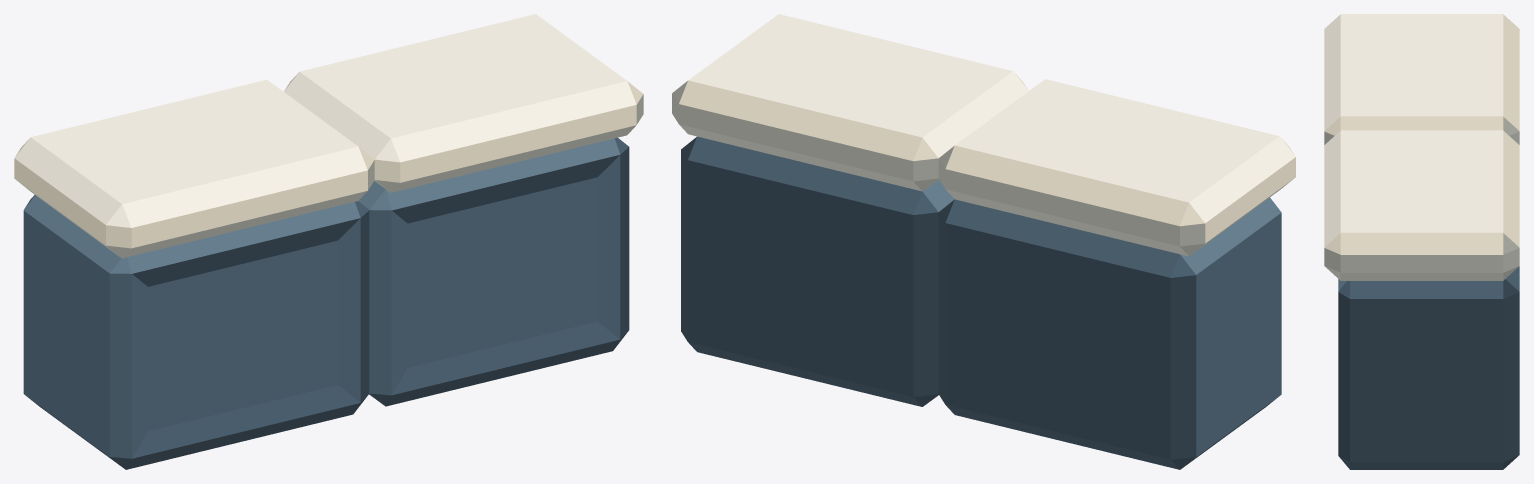
File: Terrain_TopRun2LR.gltf
3 views of the same model, side by side, from view 1: azimuth 30°, elevation 25°; view 2: azimuth 150°, elevation 25°; view 3: azimuth 270°, elevation 25° (orthographic). The views are drawn at different scales.
Parts seen in each view (by area): view 1: Terrain_TopRun2LR_baked; view 2: Terrain_TopRun2LR_baked; view 3: Terrain_TopRun2LR_baked.
Boxes of the visible parts, x1,y1,x2,y2 form: Terrain_TopRun2LR_baked: (14, 14, 643, 469); Terrain_TopRun2LR_baked: (672, 14, 1295, 469); Terrain_TopRun2LR_baked: (1324, 14, 1519, 469).
Bounding box in the file's own units: 2.07 × 1 × 0.735.
